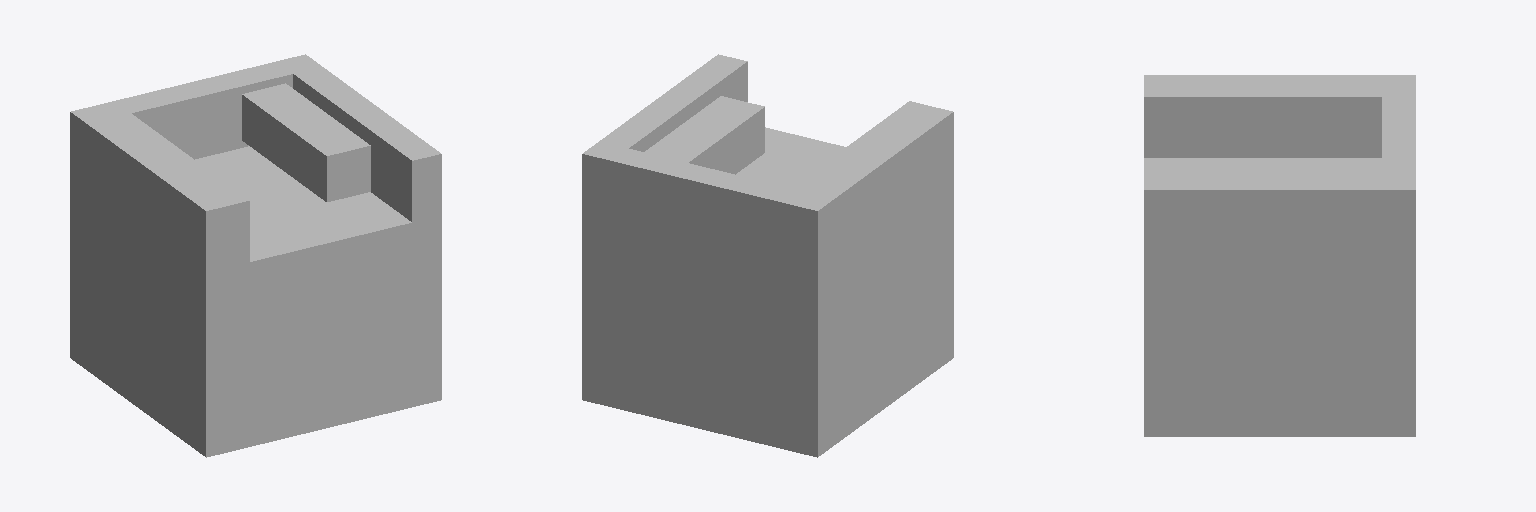
The model's file is pneumaticDoorBase.obj.
3 renders of one model, left to right at view 1: azimuth 30°, elevation 25°; view 2: azimuth 150°, elevation 25°; view 3: azimuth 270°, elevation 25°, orthographic.
Size of the model in its own units: 1 by 1 by 1.